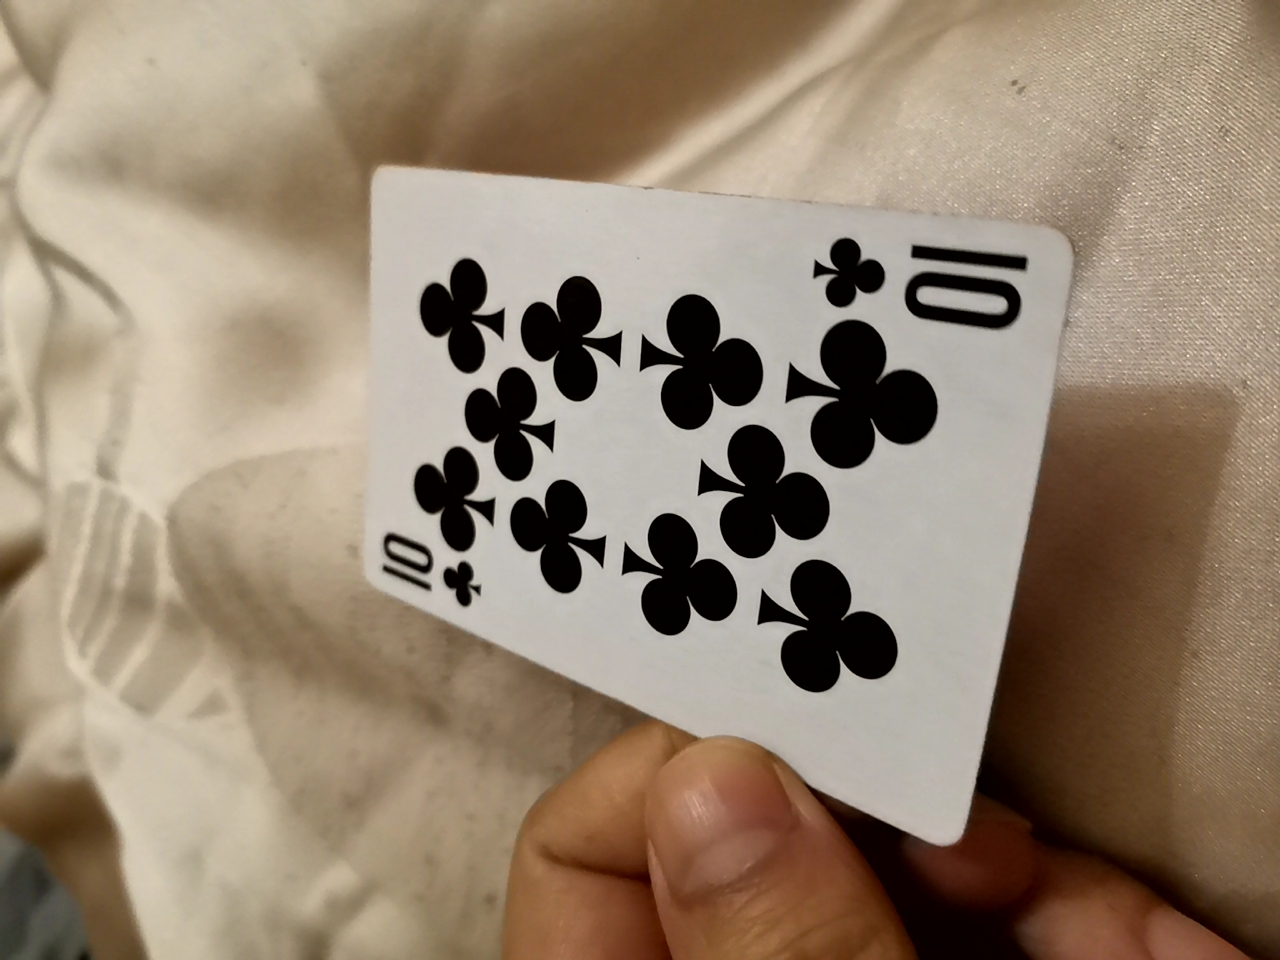mh 10: (349, 170, 1053, 856)
